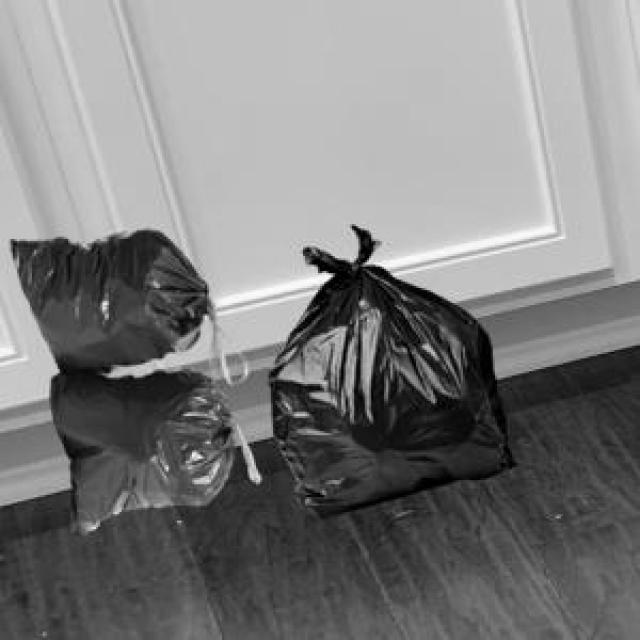miscellaneous trash: (6, 224, 256, 533), (265, 222, 512, 512)
